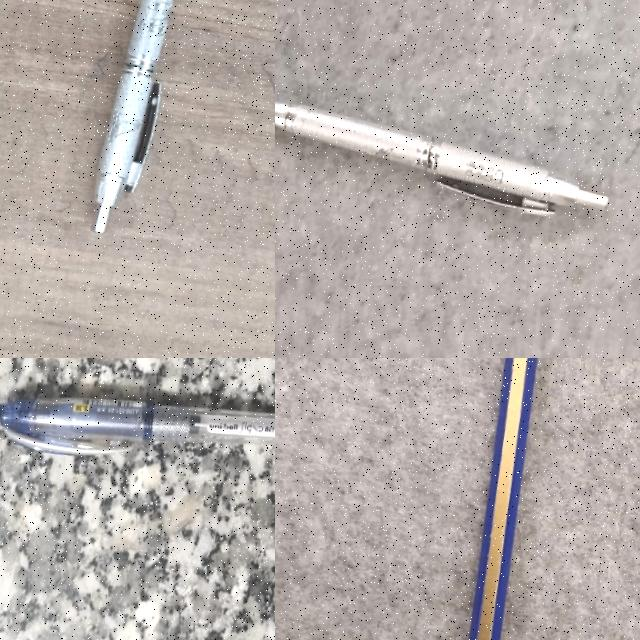pen: (0, 398, 274, 455)
pencil: (469, 358, 537, 639)
signature pen: (275, 103, 607, 215), (92, 0, 173, 233)
